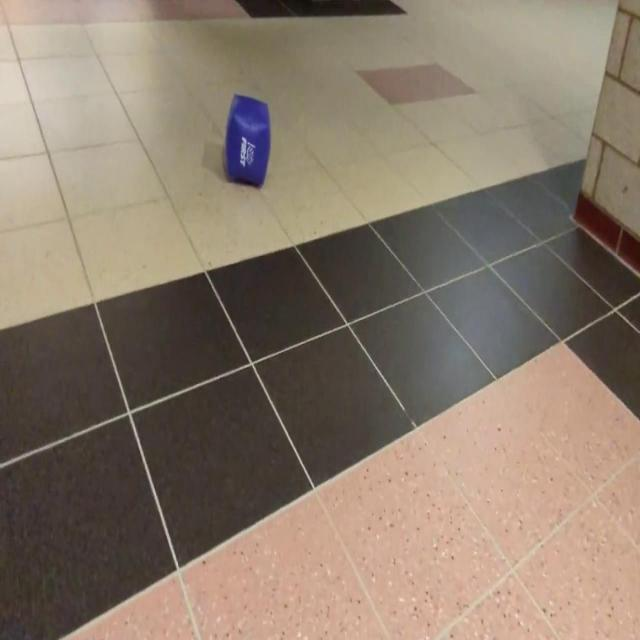frc_cube: (224, 94, 270, 180)
